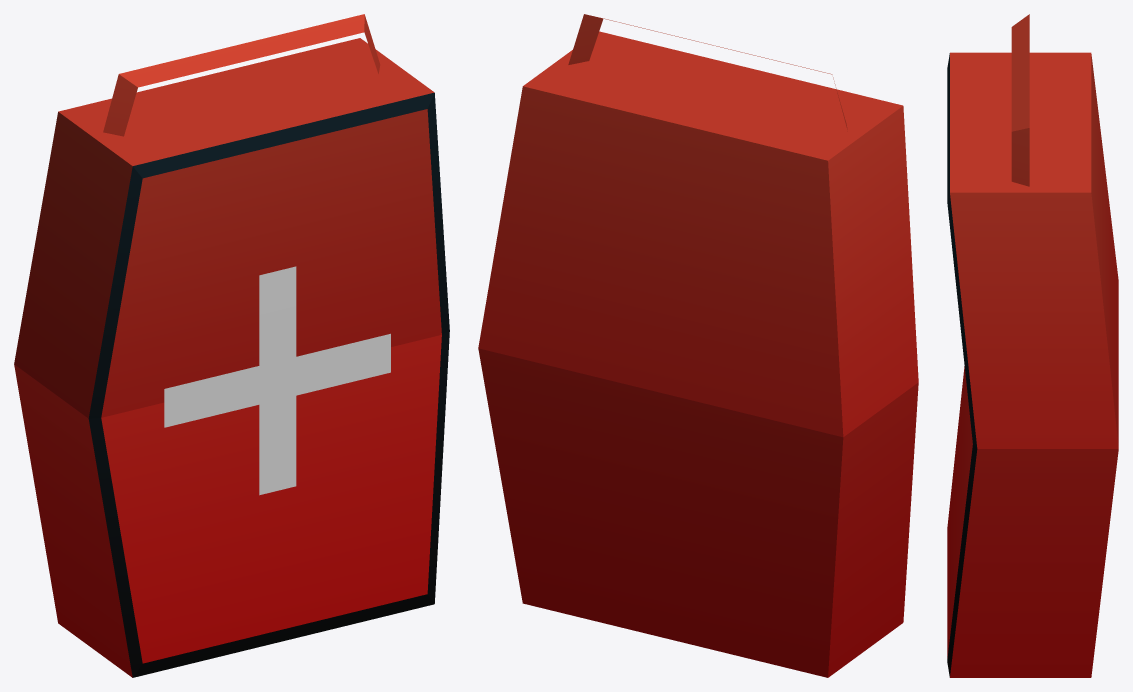
The model's file is Medic Kit.fbx.
3 renders of one model, left to right at view 1: azimuth 30°, elevation 25°; view 2: azimuth 150°, elevation 25°; view 3: azimuth 270°, elevation 25°, orthographic. The views are drawn at different scales.
Visible parts, largest first — view 1: Cube.002; view 2: Cube.002; view 3: Cube.002.
Part boxes in pixels (bbox=[...]): Cube.002: bbox=[14, 14, 449, 677]; Cube.002: bbox=[478, 14, 918, 677]; Cube.002: bbox=[947, 14, 1118, 677].
Bounding box in the file's own units: 12.91 × 19.34 × 5.6.
